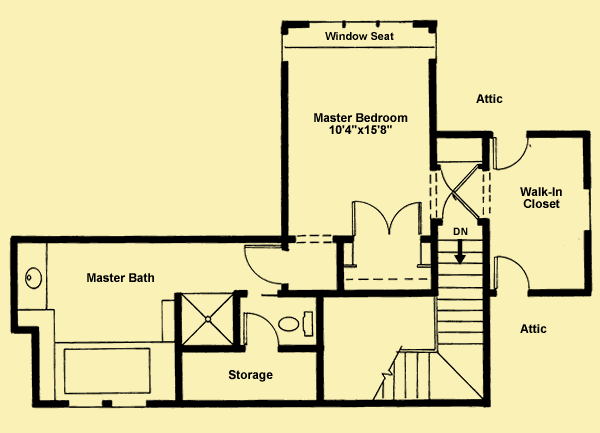door: (348, 197, 424, 242), (242, 240, 290, 291), (489, 126, 534, 173), (490, 252, 535, 299), (438, 189, 482, 231), (241, 309, 282, 354), (439, 158, 483, 195)
large sink: (274, 301, 316, 344)
small sink: (15, 241, 51, 316)
stairs: (371, 228, 491, 410)
